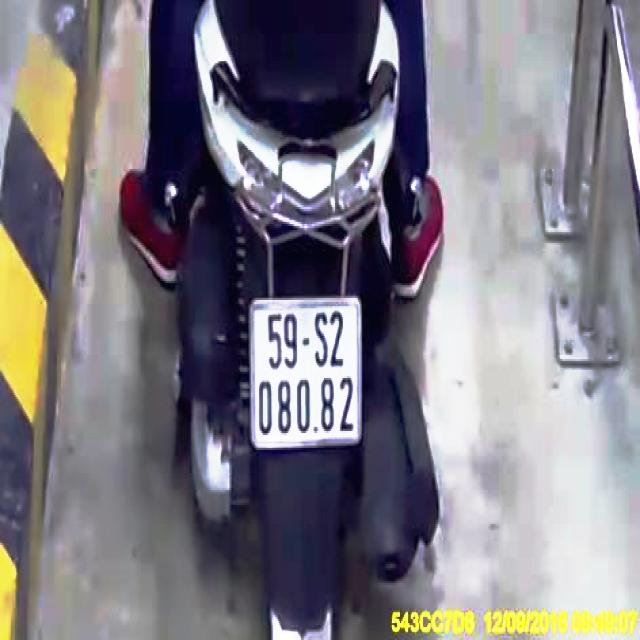license_plate: (252, 303, 362, 446)
